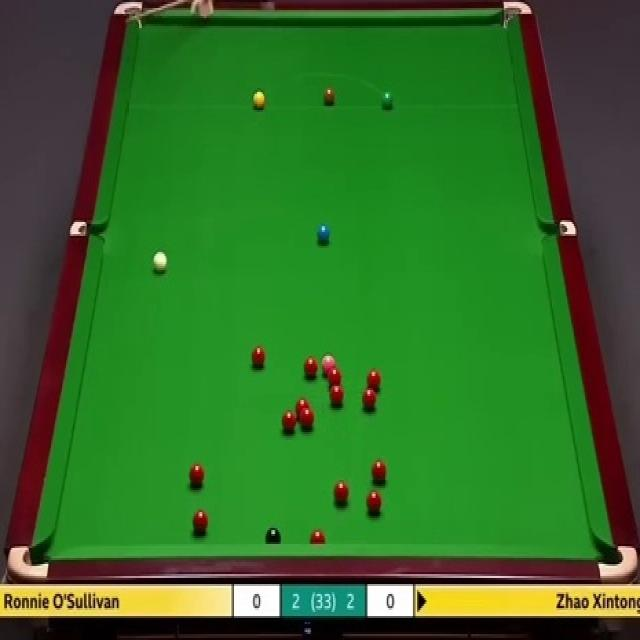black-ball: (265, 526, 281, 546)
blue-ball: (316, 224, 329, 246)
brown-ball: (324, 89, 335, 108)
green-ball: (381, 90, 396, 110)
pink-ball: (321, 352, 336, 369)
red-ball: (192, 508, 210, 536), (366, 488, 383, 514), (280, 409, 297, 434), (334, 480, 349, 506), (299, 407, 315, 431), (189, 462, 204, 487), (366, 368, 382, 391), (362, 388, 377, 412), (250, 346, 266, 368), (372, 459, 387, 482), (309, 526, 326, 546), (328, 385, 344, 406), (304, 356, 318, 377), (327, 368, 342, 383), (294, 398, 310, 412)
white-ball: (152, 250, 167, 274)
yellow-ball: (252, 89, 266, 108)
